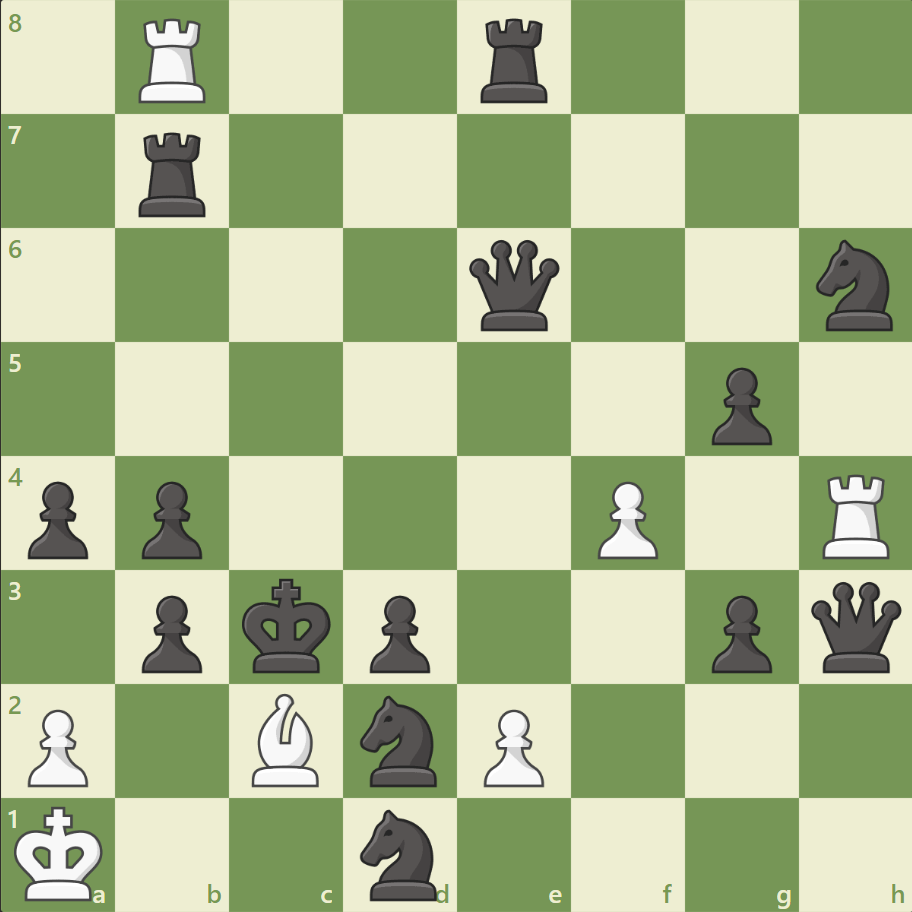B: (244, 687, 328, 790)
K: (11, 798, 111, 906)
P: (20, 700, 95, 791), (474, 700, 549, 791), (588, 473, 662, 564)
R: (814, 466, 897, 563), (133, 12, 215, 109)
k: (238, 571, 338, 679)
n: (351, 688, 449, 791), (351, 802, 449, 904), (806, 234, 903, 337)
p: (701, 359, 776, 450), (20, 473, 95, 564), (133, 473, 208, 564), (133, 586, 208, 677), (701, 586, 776, 677), (361, 586, 435, 677)
q: (805, 576, 904, 676), (464, 236, 563, 335)
r: (473, 12, 556, 109), (133, 125, 215, 222)
